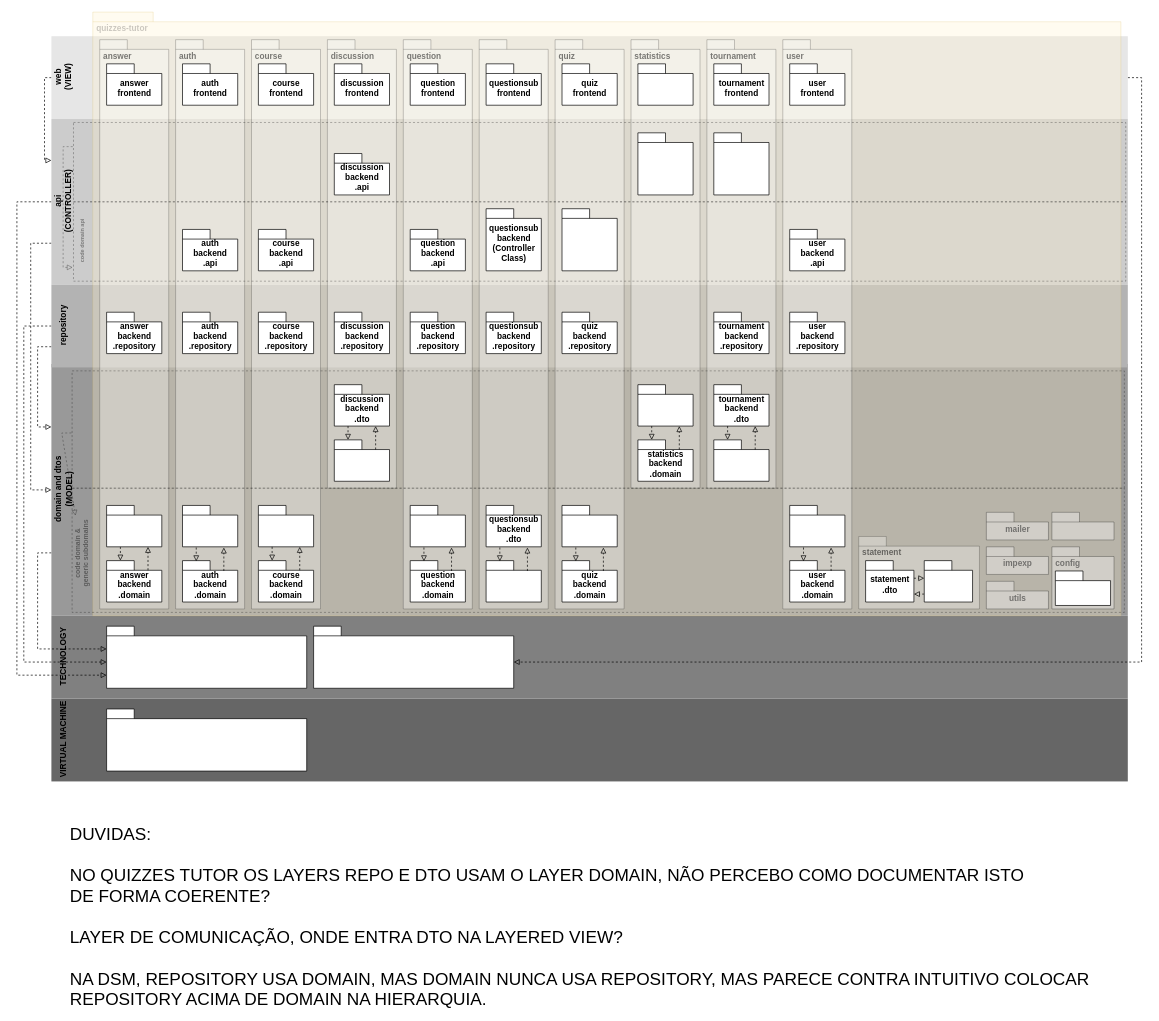
Image size: 1159x1021. Some labels were removed from this diagram. The shapes that lost their labels are listed below. From the top down, each one's box as (x1, y1, x2, y2) in pixels, then its label:
(637, 63, 693, 105): statistics frontend
(73, 122, 1126, 202): core subdomain api (engagement functionalities)
(637, 132, 693, 195): statistics backend (Controller Class)
(713, 132, 769, 195): tournament backend (Controller Class)
(561, 208, 617, 271): quiz backend (Controller Class)
(479, 39, 548, 609): questionsubmission
(637, 384, 693, 426): statistics backend (Dto Class)
(71, 370, 1124, 488): core subdomain (engagement functionalities)
(334, 439, 390, 481): discussion backend .domain
(713, 439, 769, 481): tournament backend .domain
(106, 505, 162, 547): answer backend .dto
(182, 505, 238, 547): auth backend .dto
(258, 505, 314, 547): course backend .dto
(410, 505, 465, 547): question backend .dto
(561, 505, 617, 547): quiz backend .dto
(789, 505, 845, 547): user backend .dto
(1051, 512, 1114, 540): exceptions
(485, 560, 541, 602): questionsub backend .domain
(924, 560, 973, 602): statement .domain
(1055, 570, 1111, 605): permission
(106, 625, 307, 688): Springboot
(313, 625, 514, 688): NodeJS
(106, 708, 307, 771): JVM
